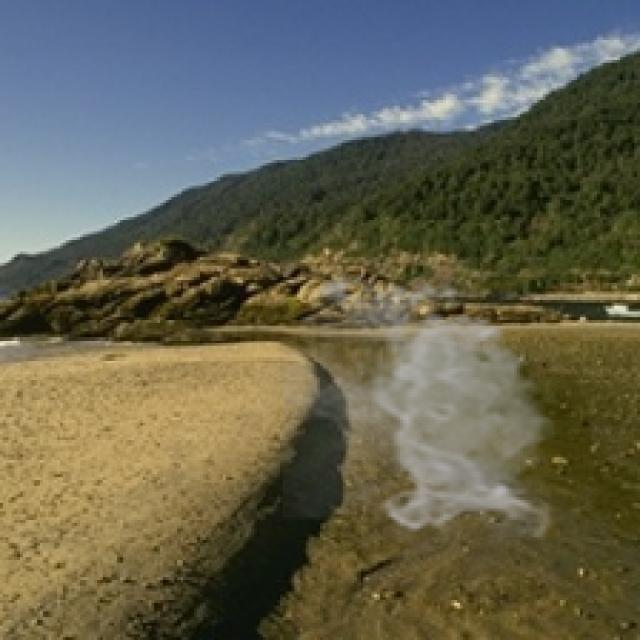Smoke: (283, 266, 560, 538)
